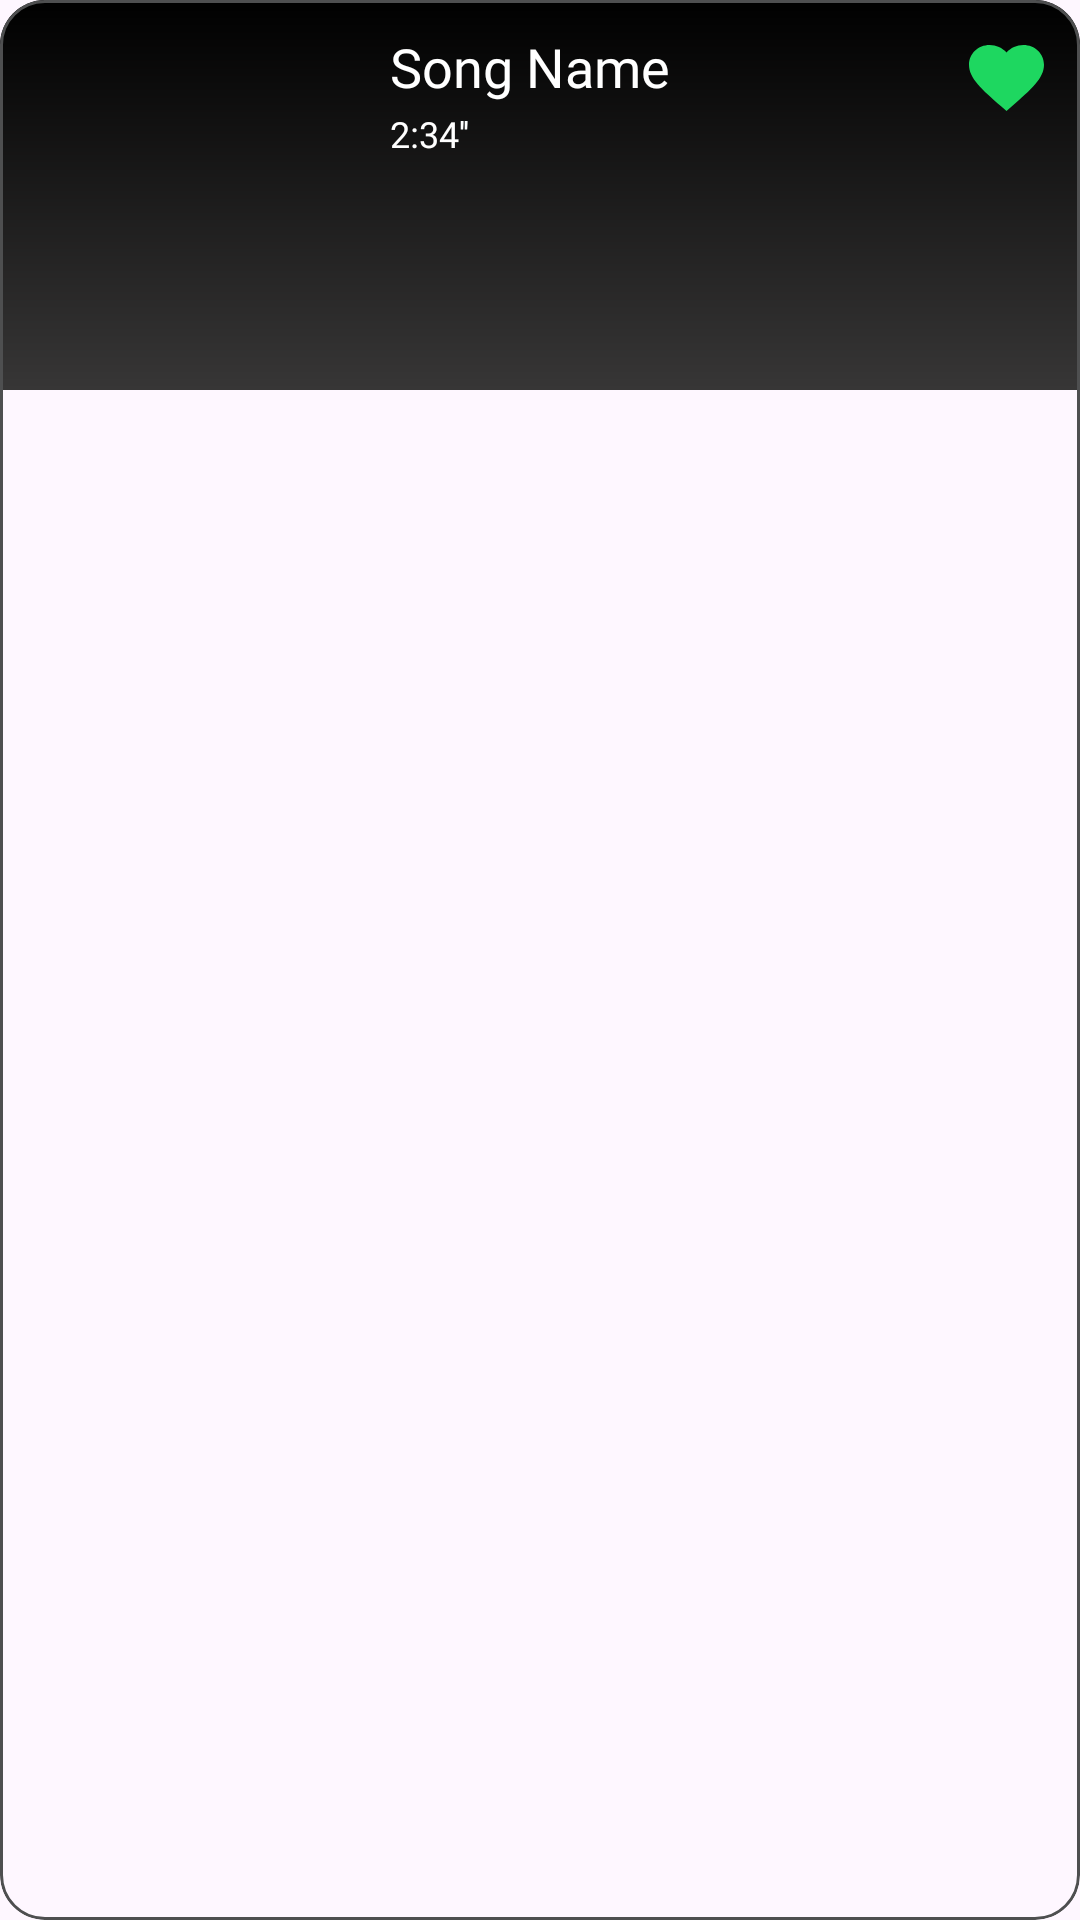

Locate icon controls on the screen. Image size 1080w x 1920h, boxes as (x1, y1, x2, y2).
favourite: (969, 45, 1044, 111)
